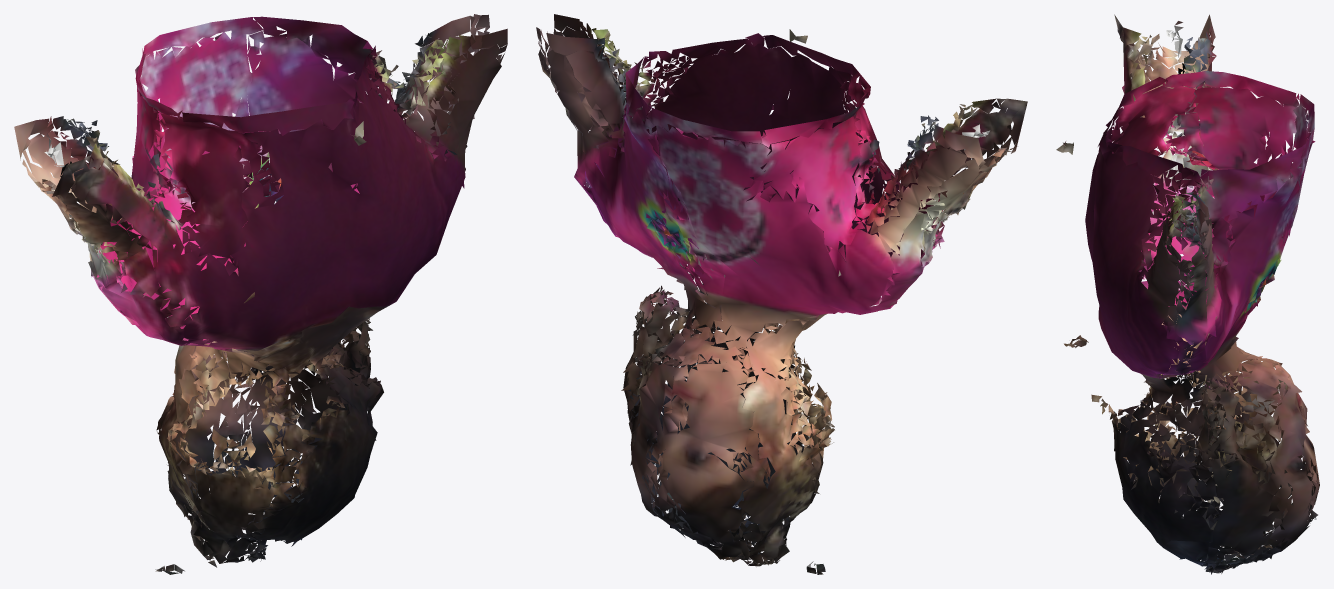
Rendered from Decim.obj.
The picture shows the model from 3 angles, left to right: view 1: azimuth 30°, elevation 25°; view 2: azimuth 150°, elevation 25°; view 3: azimuth 270°, elevation 25°; orthographic projection. The views are drawn at different scales.
Visible parts, largest first — view 1: Model; view 2: Model; view 3: Model.
Part boxes in pixels (bbox=[...]): Model: bbox=[14, 14, 507, 574]; Model: bbox=[536, 14, 1027, 574]; Model: bbox=[1056, 14, 1319, 574].
Size of the model in its own units: 0.4938 by 0.4941 by 0.2615.
